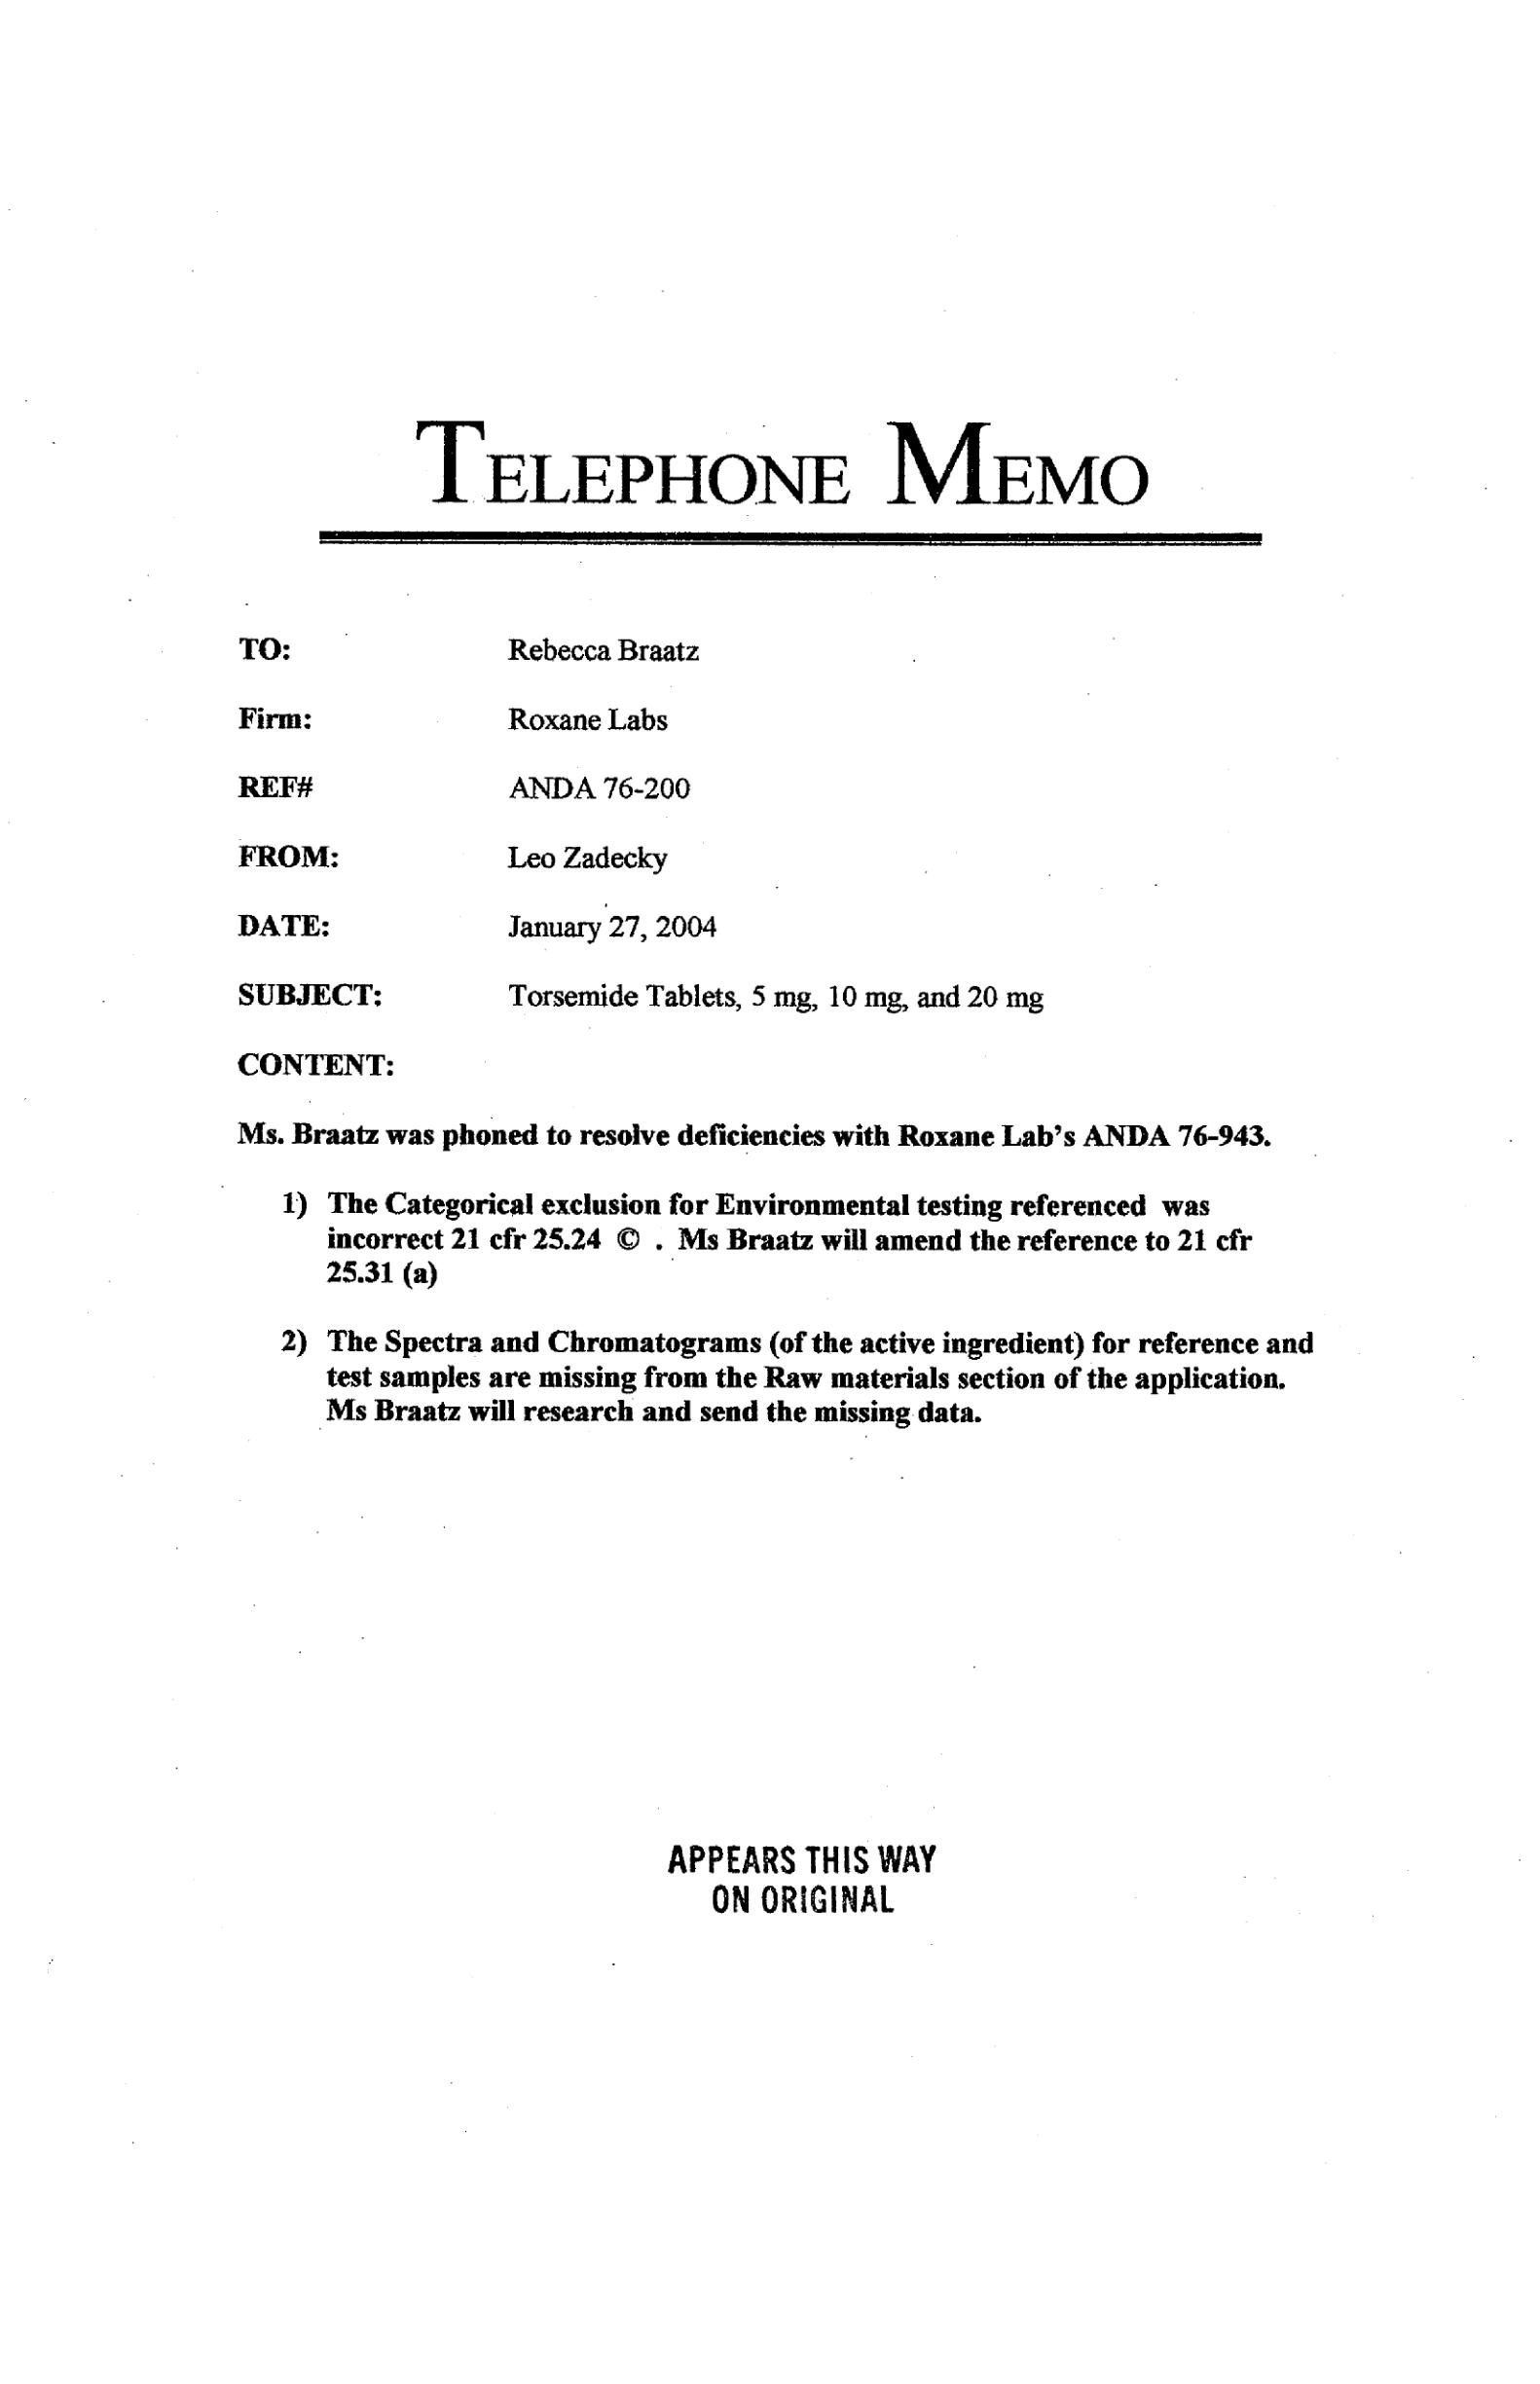nolines: (236, 632, 1046, 1084)
